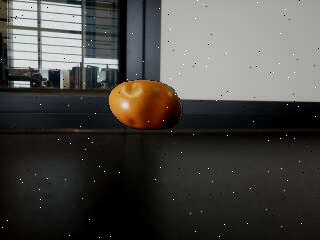Potato: (108, 80, 184, 132)
